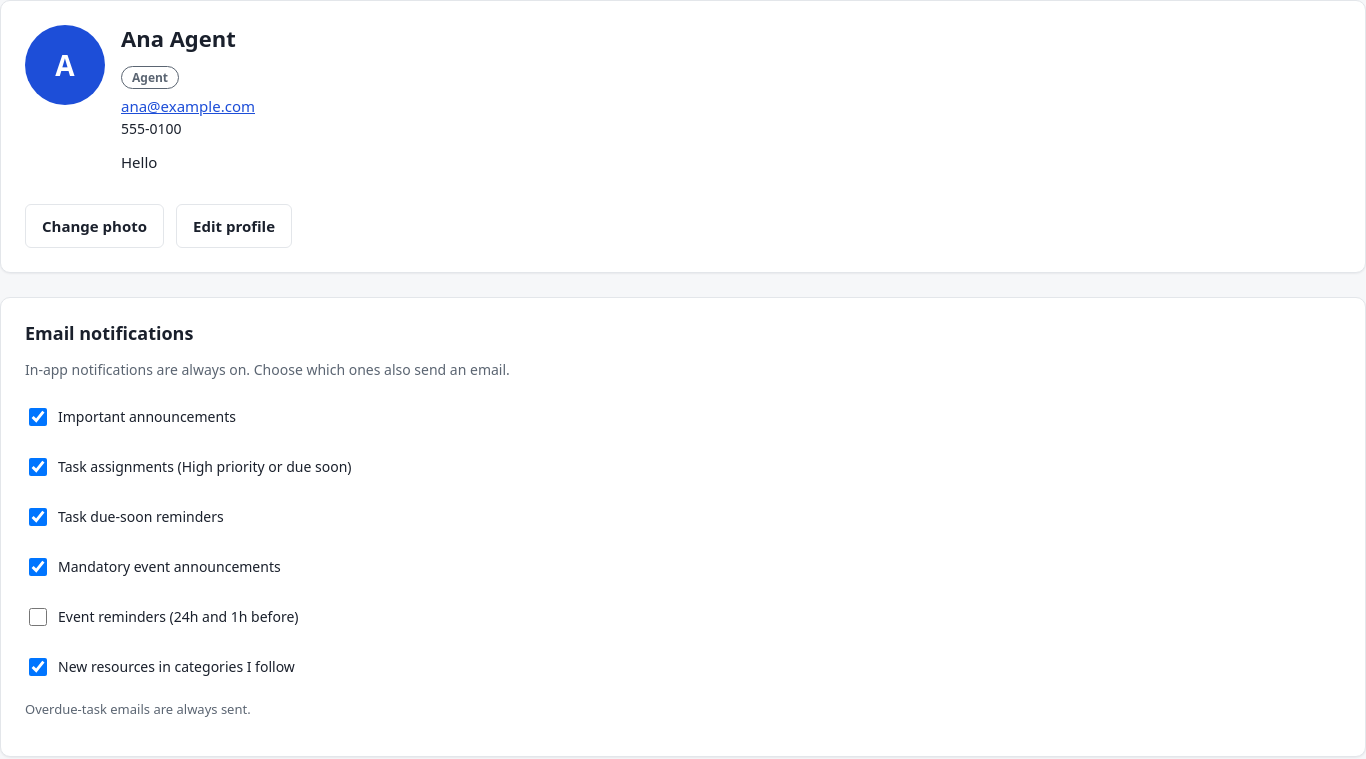
it: ProfilePage › shows a role=alert message when saving fails
Step 1. Click the button "Edit profile" → coordinates (234, 226), box [176, 204, 292, 248]
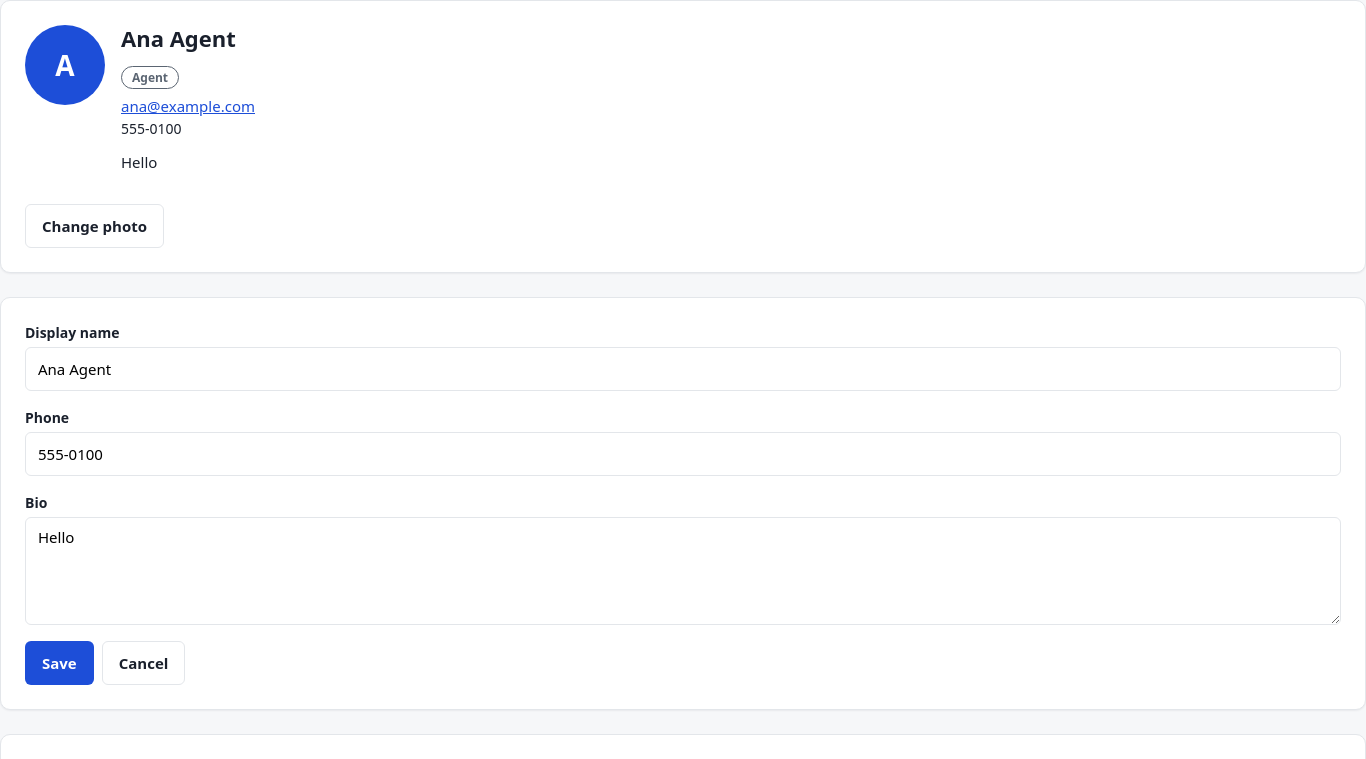
Step 2. Click the button "Save" → coordinates (59, 663), box [25, 641, 94, 685]
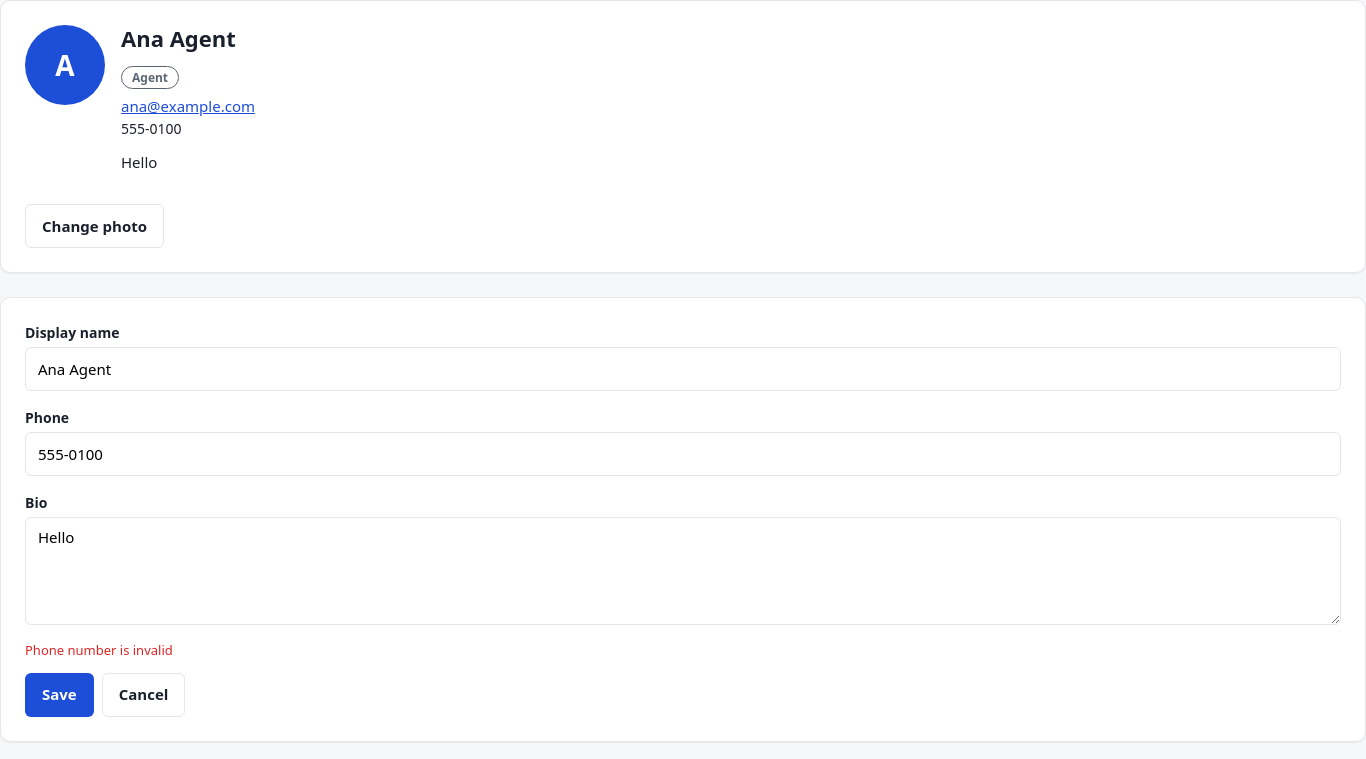
Now the message reads "Phone number is invalid", box [25, 641, 173, 659]
